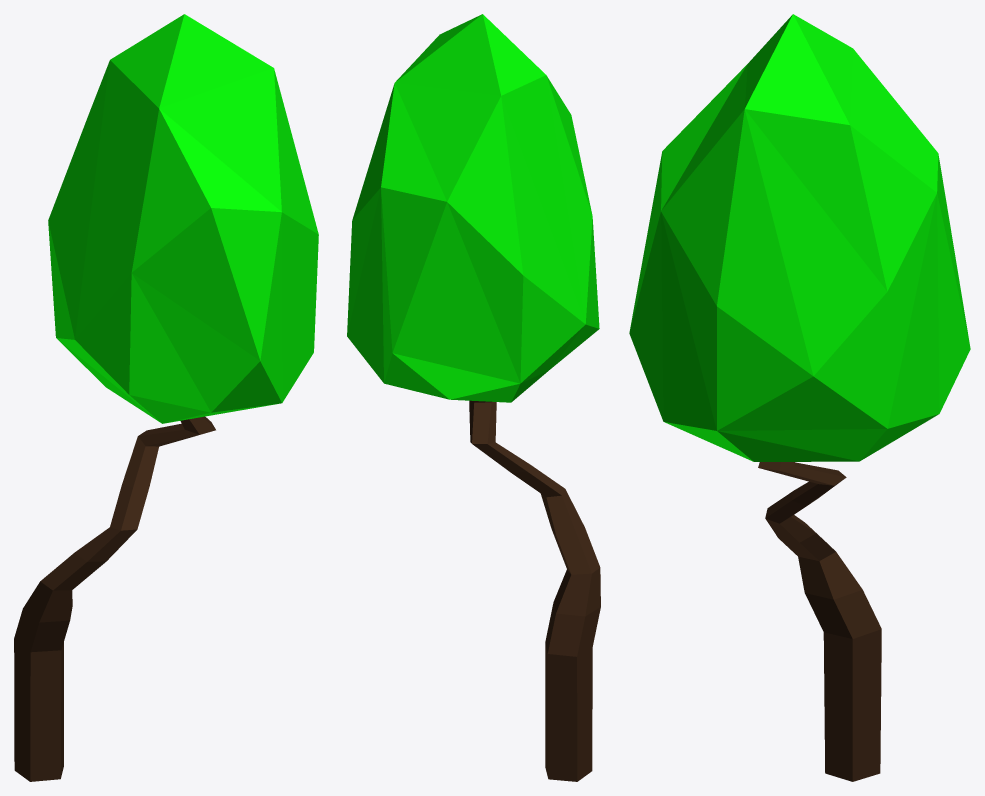
File: tree1.FBX
3 renders of one model, left to right at view 1: azimuth 30°, elevation 25°; view 2: azimuth 150°, elevation 25°; view 3: azimuth 270°, elevation 25°, orthographic. The views are drawn at different scales.
Visible parts, largest first — view 1: Hedra001, Cylinder001; view 2: Hedra001, Cylinder001; view 3: Hedra001, Cylinder001.
Boxes of the visible parts, x1=… form: Hedra001: x1=48, y1=14, x2=318, y2=423; Cylinder001: x1=14, y1=416, x2=215, y2=781; Hedra001: x1=347, y1=14, x2=599, y2=402; Cylinder001: x1=469, y1=400, x2=600, y2=781; Hedra001: x1=629, y1=14, x2=970, y2=461; Cylinder001: x1=758, y1=462, x2=881, y2=781.
Bounding box in the file's own units: 500 × 1417 × 536.
